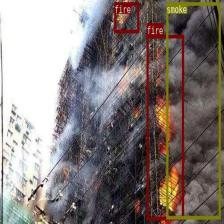fire: (146, 34, 184, 219), (114, 2, 139, 32)
smoke: (166, 1, 220, 218)
